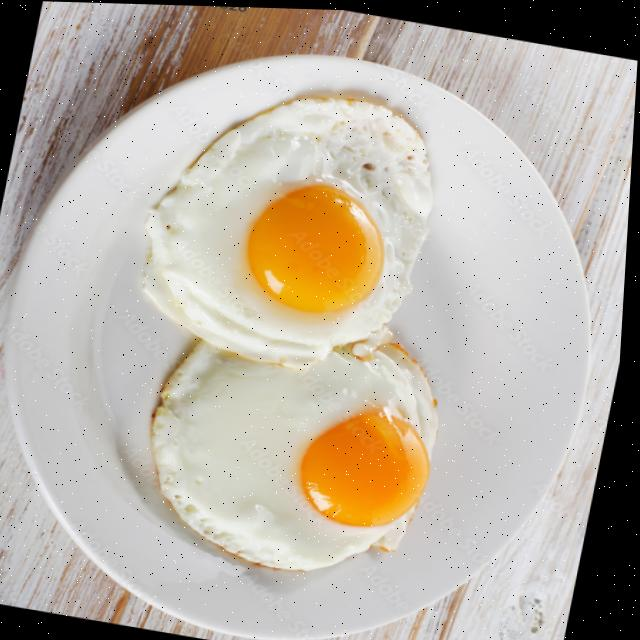Egg: (147, 97, 434, 366), (157, 339, 442, 569)
